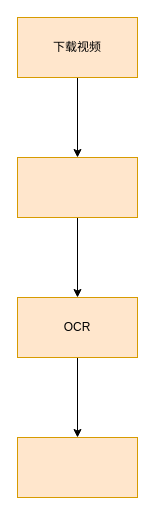
The diagram is 155 pixels wide and 515 high, and some of its shapes have lost their labels. The centre of each missing label's shape, as x and y in pixels:
"Mongo" goes at (x=77, y=467).
"抽帧" goes at (x=77, y=187).
